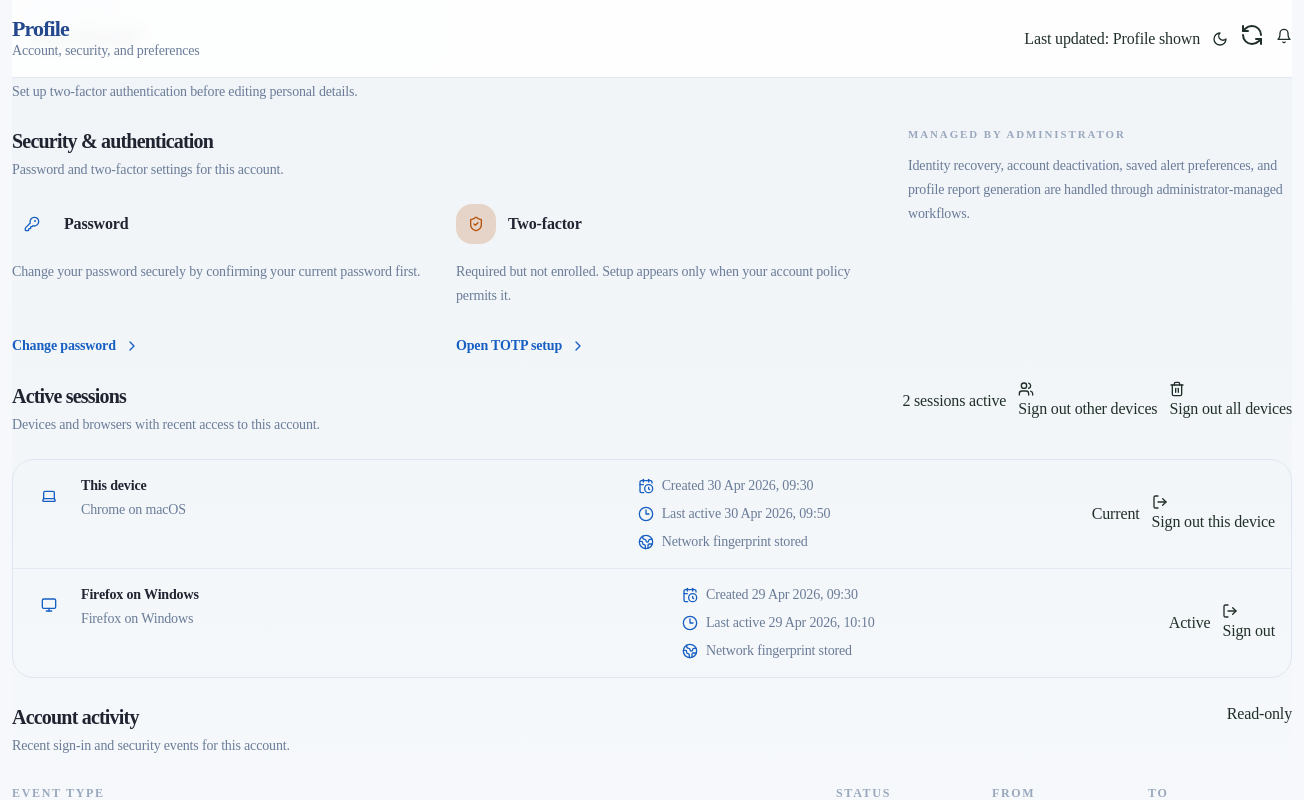
Test case: ProfilePage › renders active sessions and can revoke other devices
(page scrolled)
Expected: the heading "Active sessions" is shown, left=12, top=384, right=126, bottom=406
Expected: the text "Chrome on macOS" is shown, left=81, top=500, right=186, bottom=520
Click the button "Sign out other devices" at (1088, 400), box left=1018, top=380, right=1157, bottom=420
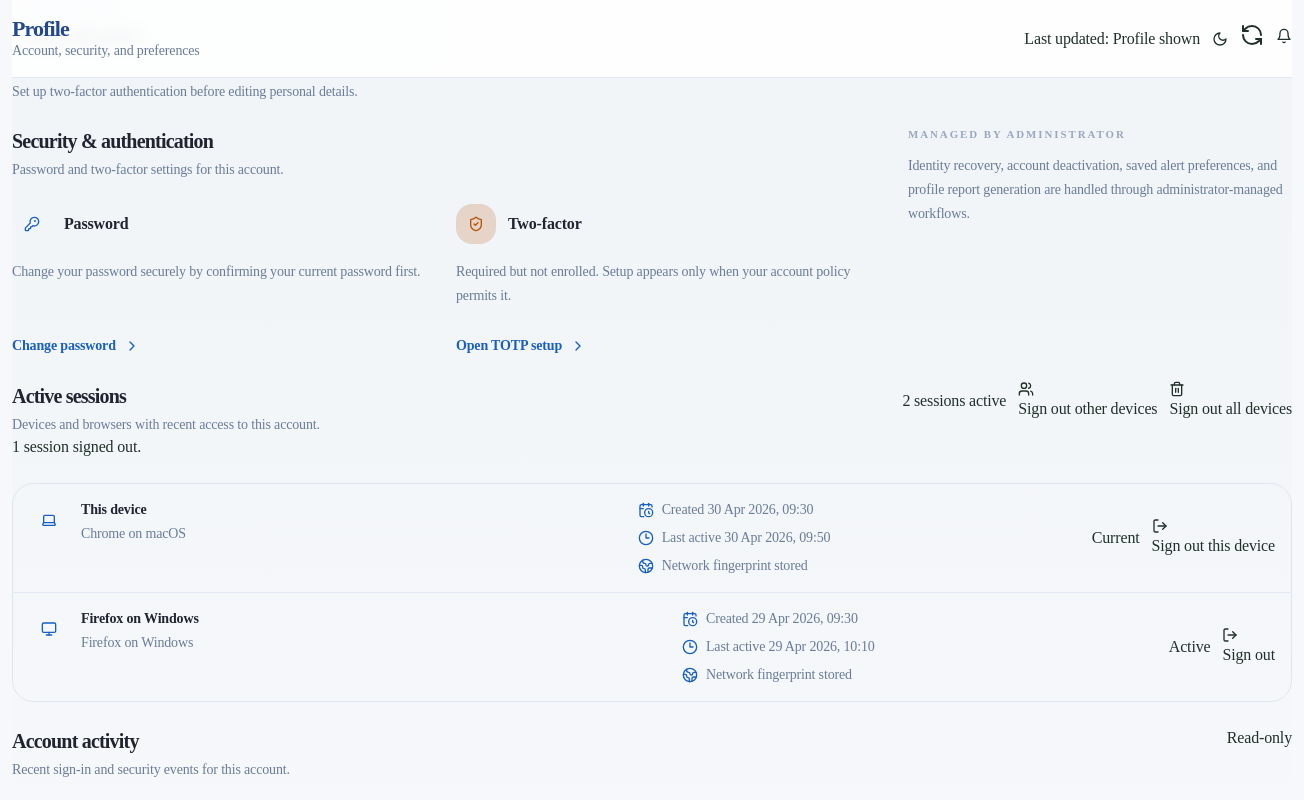
Now the text "1 session signed out." is shown, box left=12, top=438, right=141, bottom=454
